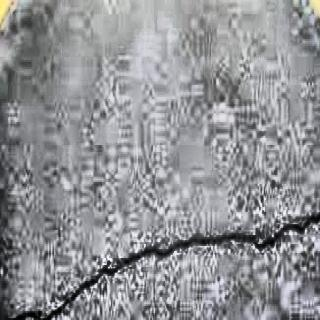crack: (5, 212, 319, 320)
